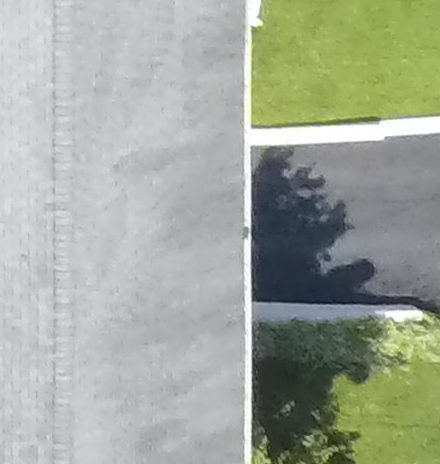driveway: (230, 114, 440, 325)
